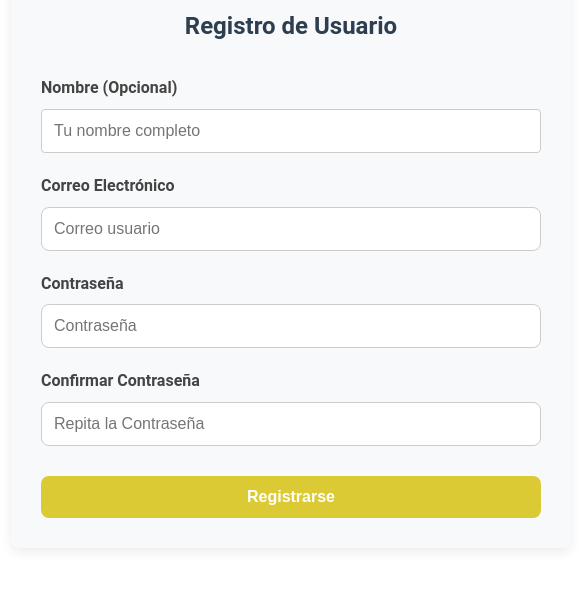
Componente Registro - Validaciones y Lógica › debe mostrar error si el correo es inválido y no debe intentar registrar
In the field labelled "Correo Electrónico": (291, 229) [41,207,541,251], type "test@hotmail.com"
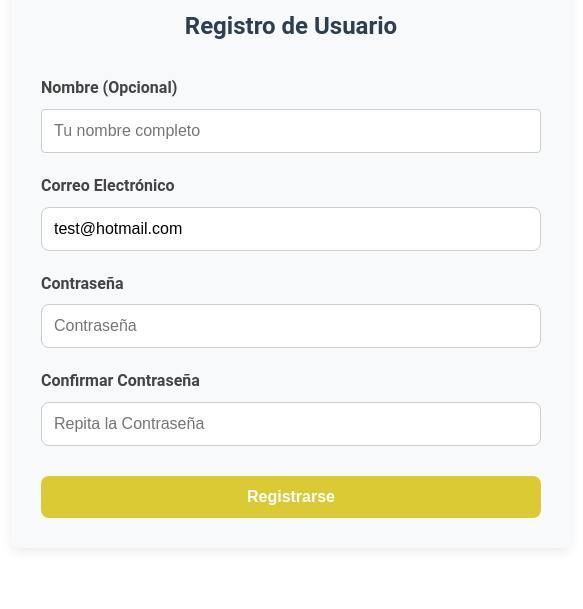
In the password field labelled "Contraseña": (291, 326) [41,304,541,348], type "password123"
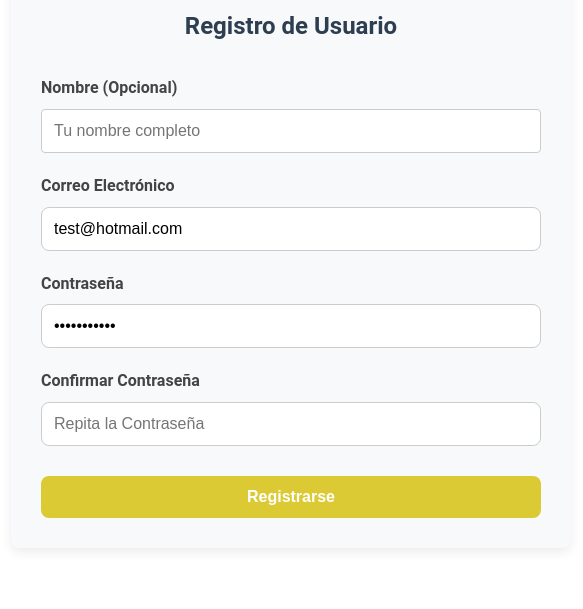
In the password field labelled "Confirmar Contraseña": (291, 424) [41,402,541,446], type "password123"
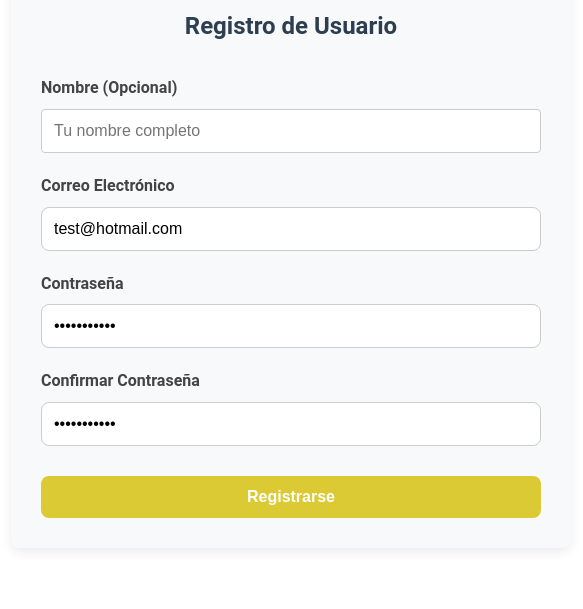
Click the button "Registrarse": (291, 497) [41,476,541,518]
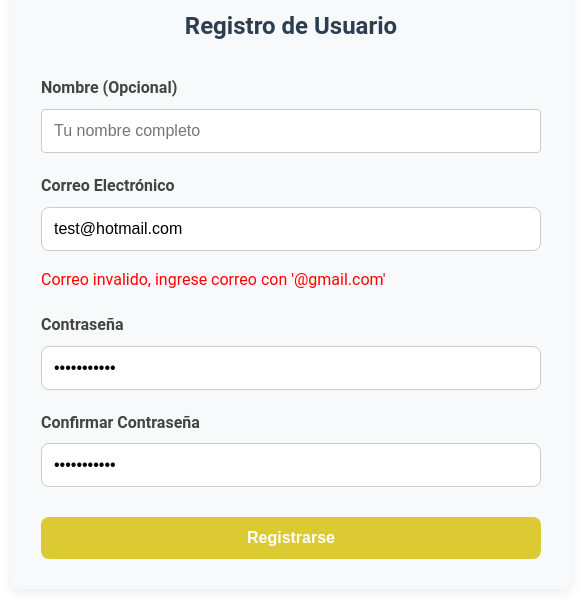
Expected: the text "Correo invalido, ingrese correo con '@gmail.com'" is shown, [41,270,386,289]
